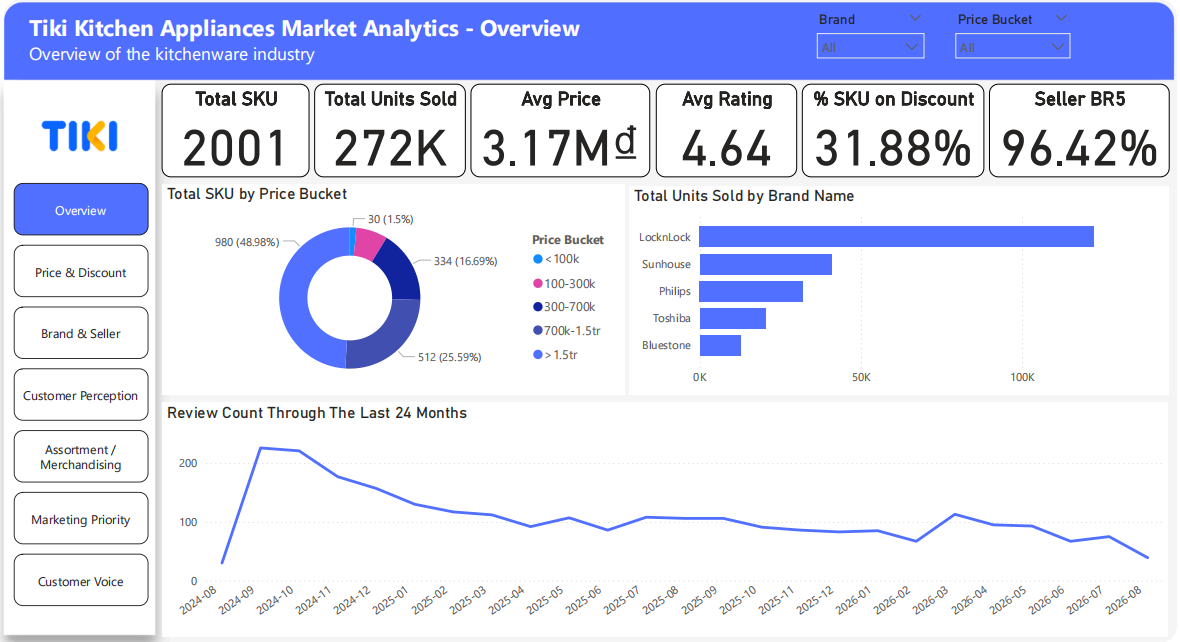

The page's visual inventory and layout, read from the dashboard file:
{"tool":"powerbi","page":{"name":"Overview","canvas":[1280,720],"ordinal":0},"visuals":[{"type":"textbox","box":[38.6,24.3,830,82.9],"z":0},{"type":"card","title":"Total SKU","fields":{"Values":["_Measures.Total SKU"]},"box":[184.7,106,158.3,100],"z":1000},{"type":"card","title":"Total Units Sold","fields":{"Values":["_Measures.Total Units Sold"]},"box":[348.2,106.1,161.7,100],"z":2000},{"type":"card","title":"Avg Price","fields":{"Values":["_Measures.Avg Price"]},"box":[515.1,106.1,192.2,100],"z":3000},{"type":"card","title":"Avg Rating","fields":{"Values":["_Measures.Avg Rating"]},"box":[712.5,106,151.3,100],"z":4000},{"type":"card","title":"% SKU on Discount","fields":{"Values":["_Measures.% SKU on Discount"]},"box":[869.1,106.4,195,99.3],"z":5000},{"type":"card","title":"Seller BR5","fields":{"Values":["_Measures.Seller CR5"]},"box":[1069.3,106.4,192.9,100],"z":6000},{"type":"donutChart","title":"Total SKU by Price Bucket","fields":{"Category":["fact_product_metrics.price_bucket"],"Y":["_Measures.Total SKU"]},"box":[186.2,212.5,493.8,225],"z":7000},{"type":"clusteredBarChart","title":"Total Units Sold by Brand Name","fields":{"Category":["dim_brand.brand_name"],"Y":["_Measures.Total Units Sold"]},"box":[685,215,576.2,222.5],"z":8000},{"type":"lineChart","title":"Review Count Through The Last 24 Months","fields":{"Y":["_Measures.Review Count by Created Date"],"Category":["dim_date.Year Month"]},"box":[185.7,447.1,1074.3,248.6],"z":9000},{"type":"slicer","fields":{"Values":["dim_brand.brand_name"]},"box":[874.7,24.2,135.1,65.4],"z":10000},{"type":"slicer","fields":{"Values":["fact_product_metrics.price_bucket"]},"box":[1022.6,24.2,143.6,65.4],"z":11000},{"type":"pageNavigator","box":[27,211.9,143.6,456.5],"z":12000}]}

Visuals, with their boxes on the page's 1280x720 design canvas (x1, y1, x2, y2). These are canvas units, not pixel positions in the 1180x642 screenshot, which may show the page scaled, cropped or inside an application window:
textbox: crop(39, 24, 869, 107)
"Total SKU" card: crop(185, 106, 343, 206)
"Total Units Sold" card: crop(348, 106, 510, 206)
"Avg Price" card: crop(515, 106, 707, 206)
"Avg Rating" card: crop(712, 106, 864, 206)
"% SKU on Discount" card: crop(869, 106, 1064, 206)
"Seller BR5" card: crop(1069, 106, 1262, 206)
"Total SKU by Price Bucket" donutChart: crop(186, 212, 680, 438)
"Total Units Sold by Brand Name" clusteredBarChart: crop(685, 215, 1261, 438)
"Review Count Through The Last 24 Months" lineChart: crop(186, 447, 1260, 696)
slicer - dim_brand.brand_name: crop(875, 24, 1010, 90)
slicer - fact_product_metrics.price_bucket: crop(1023, 24, 1166, 90)
pageNavigator: crop(27, 212, 171, 668)
